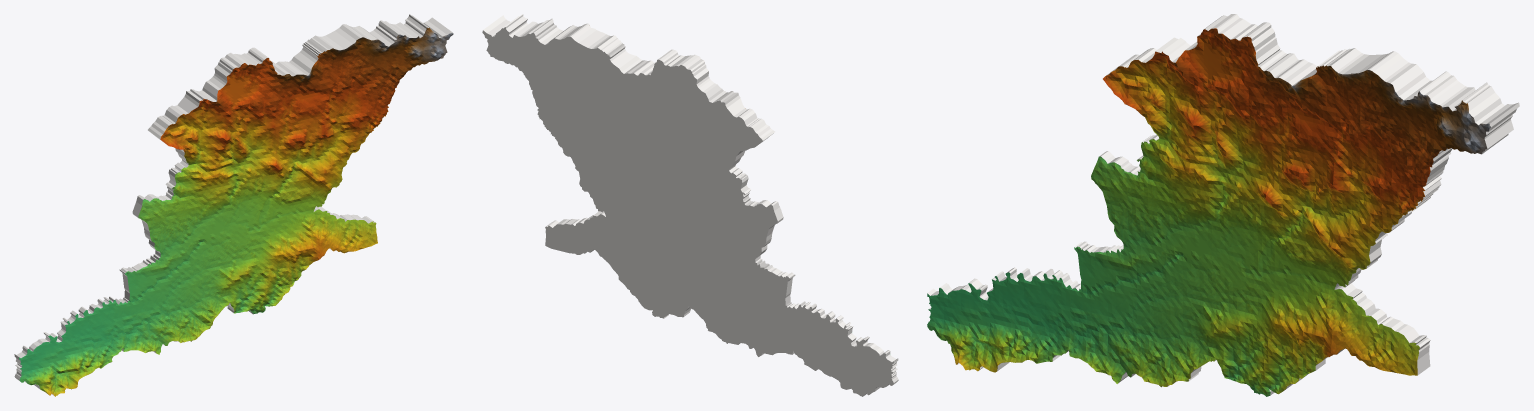
Rendered from banjarnegara_3d.obj.
The picture shows the model from 3 angles, left to right: view 1: azimuth 30°, elevation 25°; view 2: azimuth 150°, elevation 25°; view 3: azimuth 330°, elevation 25°; orthographic projection. The views are drawn at different scales.
Visible parts, largest first — view 1: Top_Terrain, Side_Skirt; view 2: Bottom_Base, Side_Skirt; view 3: Top_Terrain, Side_Skirt.
Boxes of the visible parts, x1=… form: Top_Terrain: x1=19, y1=27, x2=453, y2=396; Side_Skirt: x1=14, y1=14, x2=452, y2=395; Bottom_Base: x1=482, y1=27, x2=893, y2=396; Side_Skirt: x1=483, y1=14, x2=898, y2=396; Top_Terrain: x1=927, y1=28, x2=1490, y2=396; Side_Skirt: x1=927, y1=14, x2=1519, y2=395.
Size of the model in its own units: 160 by 107 by 14.02.
Materials: 2 (1 with a texture image).
